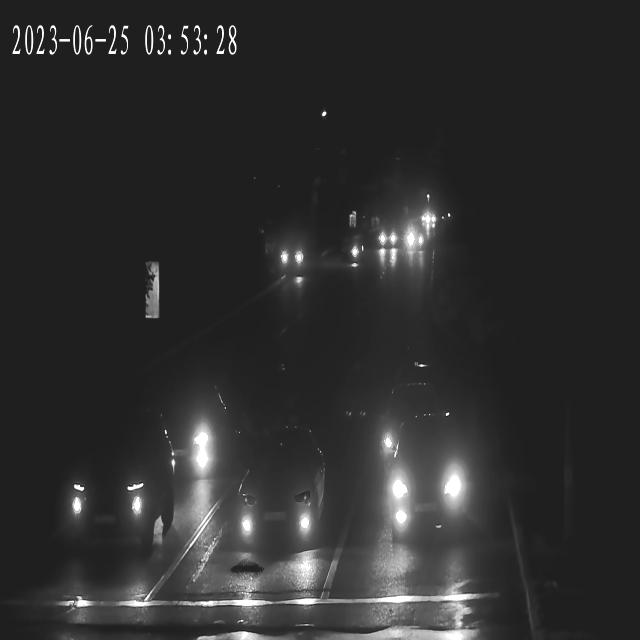Car: (54, 431, 174, 546), (230, 438, 327, 552), (379, 433, 470, 534), (146, 383, 235, 480), (361, 385, 449, 460), (276, 241, 308, 274), (372, 226, 396, 252), (342, 237, 366, 263), (375, 228, 399, 251), (404, 229, 427, 252), (416, 213, 437, 228)
